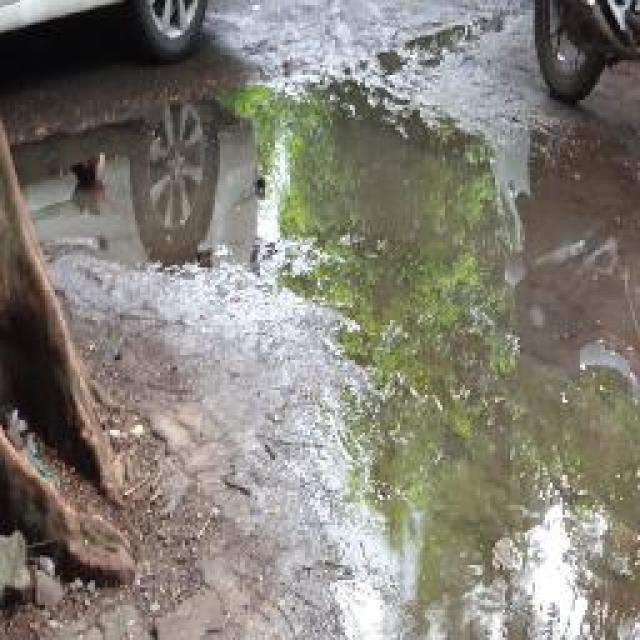stagnation: (20, 53, 637, 640)
